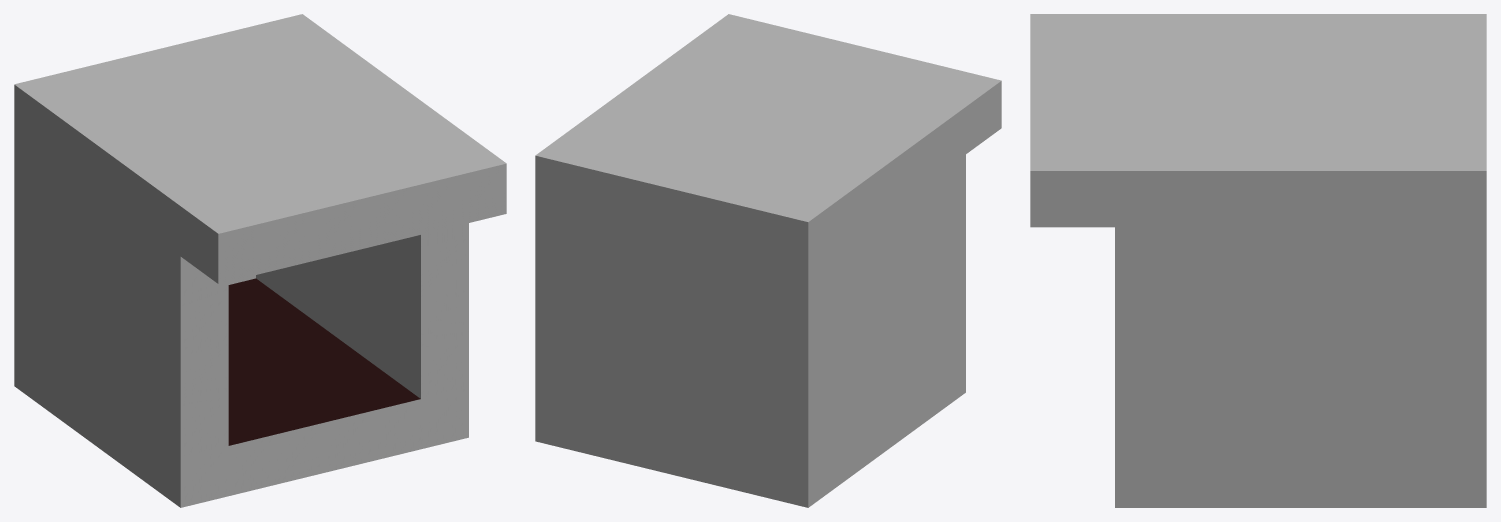
The model's file is starthouse.fbx.
3 renders of one model, left to right at view 1: azimuth 30°, elevation 25°; view 2: azimuth 150°, elevation 25°; view 3: azimuth 270°, elevation 25°, orthographic. The views are drawn at different scales.
Parts seen in each view (by area): view 1: pCube1; view 2: pCube1; view 3: pCube1.
Part boxes in pixels (x1,y1,x2,y2): pCube1: (14,14,506,507); pCube1: (535,14,1001,507); pCube1: (1030,14,1486,507).
Size of the model in its own units: 300 by 300 by 368.
